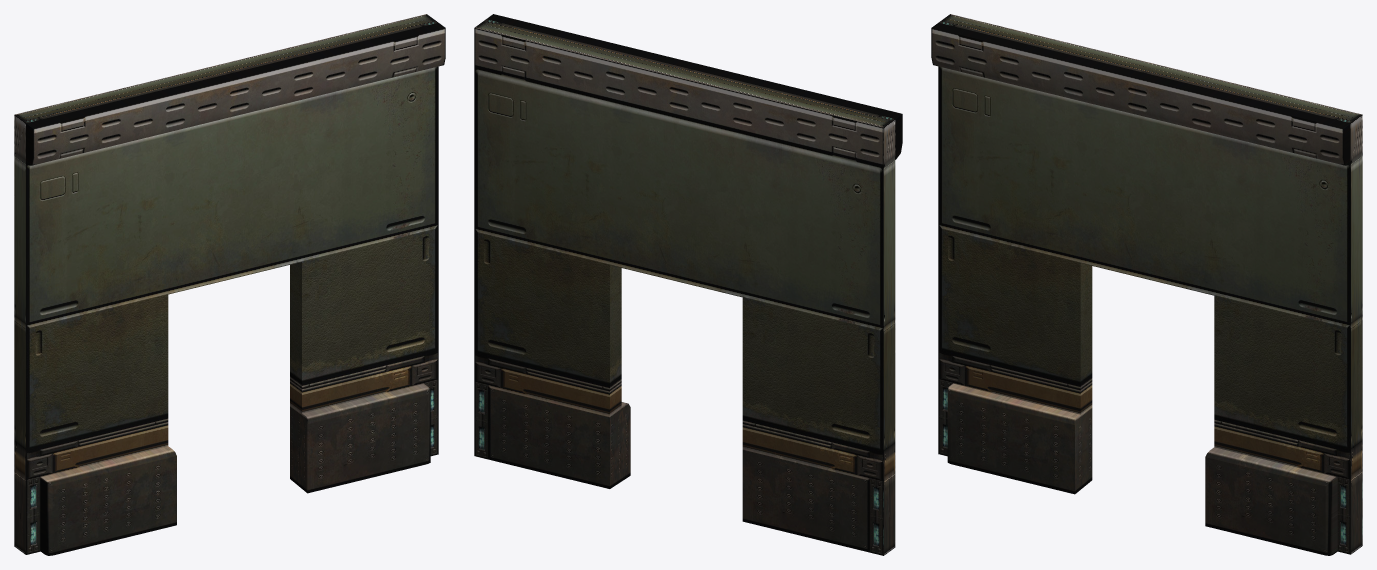
File: ReactorRoom_Door.FBX
3 views of the same model, side by side, from view 1: azimuth 30°, elevation 25°; view 2: azimuth 150°, elevation 25°; view 3: azimuth 330°, elevation 25° (orthographic).
Visible parts, largest first — view 1: Wall_ReactorDoor; view 2: Wall_ReactorDoor; view 3: Wall_ReactorDoor.
Boxes of the visible parts, bbox=[...] form: Wall_ReactorDoor: bbox=[14, 14, 445, 555]; Wall_ReactorDoor: bbox=[474, 14, 902, 555]; Wall_ReactorDoor: bbox=[931, 14, 1362, 555].
Size of what is drawn, in the model's own units: 400 by 32 by 400.
